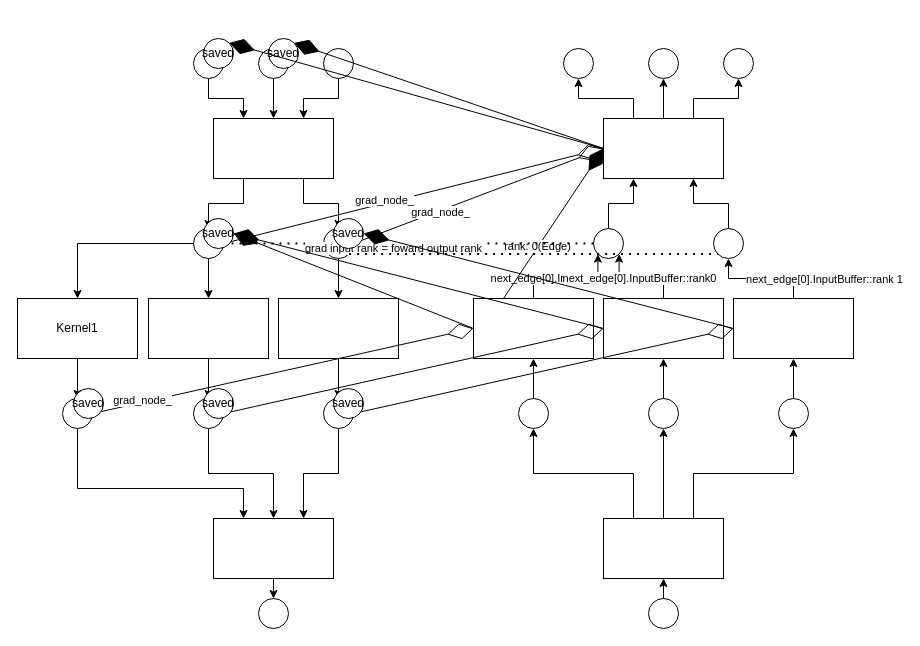
The diagram is 920 pixels wide and 646 high, and some of its shapes have lost their labels. Each missing label, with the centre of its shape:
"Kernel0" belongs at point (273, 148).
"Kernel0@Grad" belongs at point (663, 148).
"Kernel1@Grad" belongs at point (533, 328).
